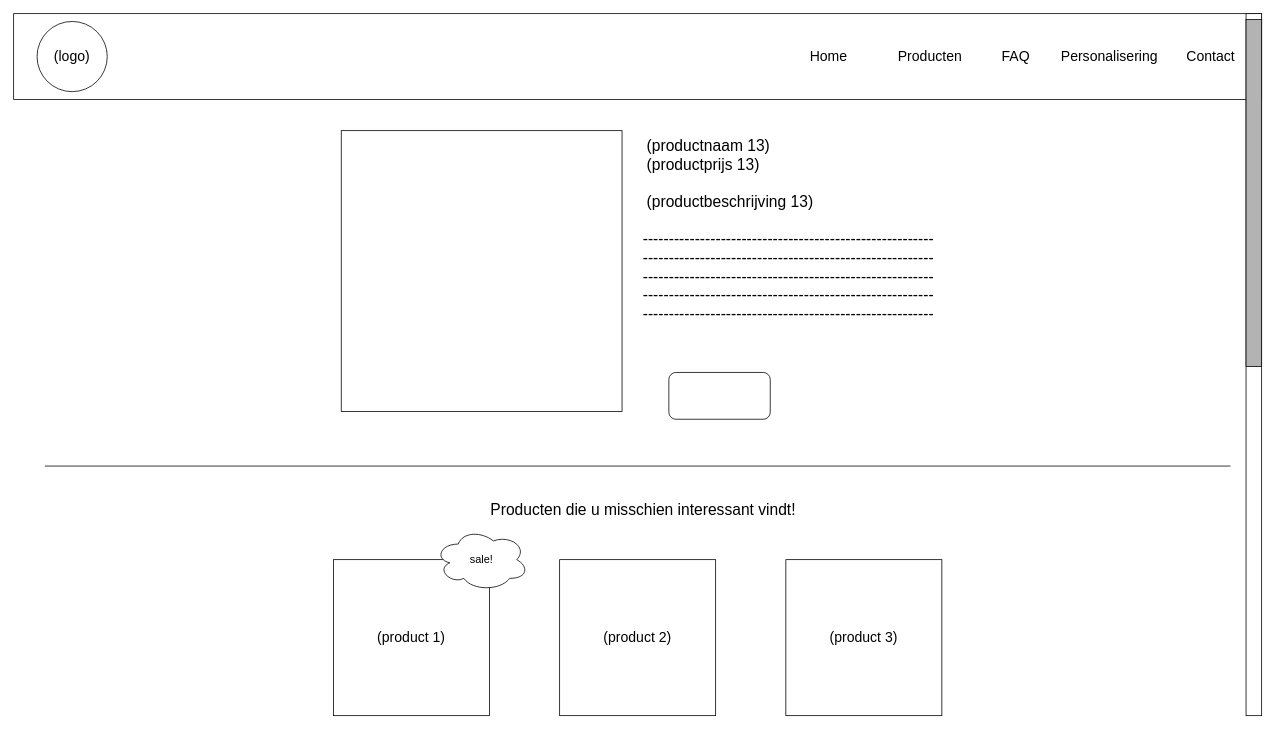
The diagram is 1275 pixels wide and 729 high, and some of its shapes have lost their labels. Each missing label, with the centre of its shape:
"(product afbeelding) (product 13)" goes at [481,270].
"{addtocart}" goes at [719,395].
